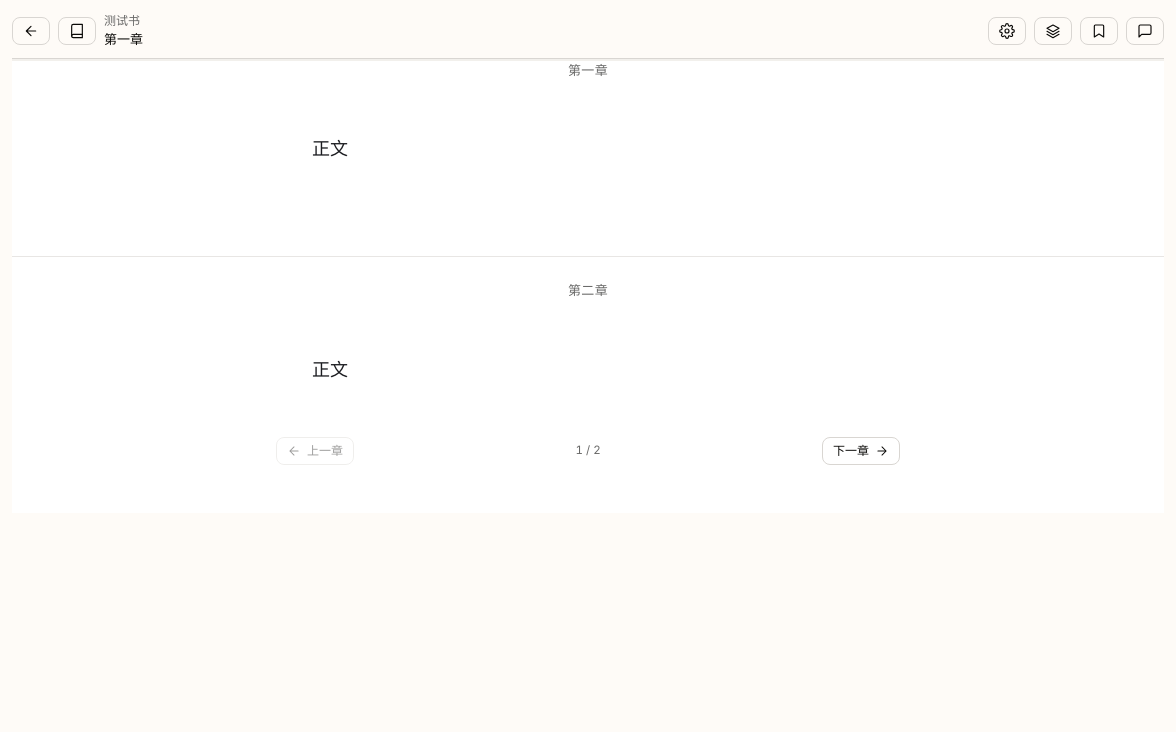
Test case: ReaderView · 设置面板的定位（第 108 期响应式横扫补记） › 面板挂在**工具栏整行**上，而不是那颗按钮的外层 div
The width and height of the screenshot is (1176, 732).
Click the button titled "阅读设置": [1007, 31] box [988,17,1026,45]
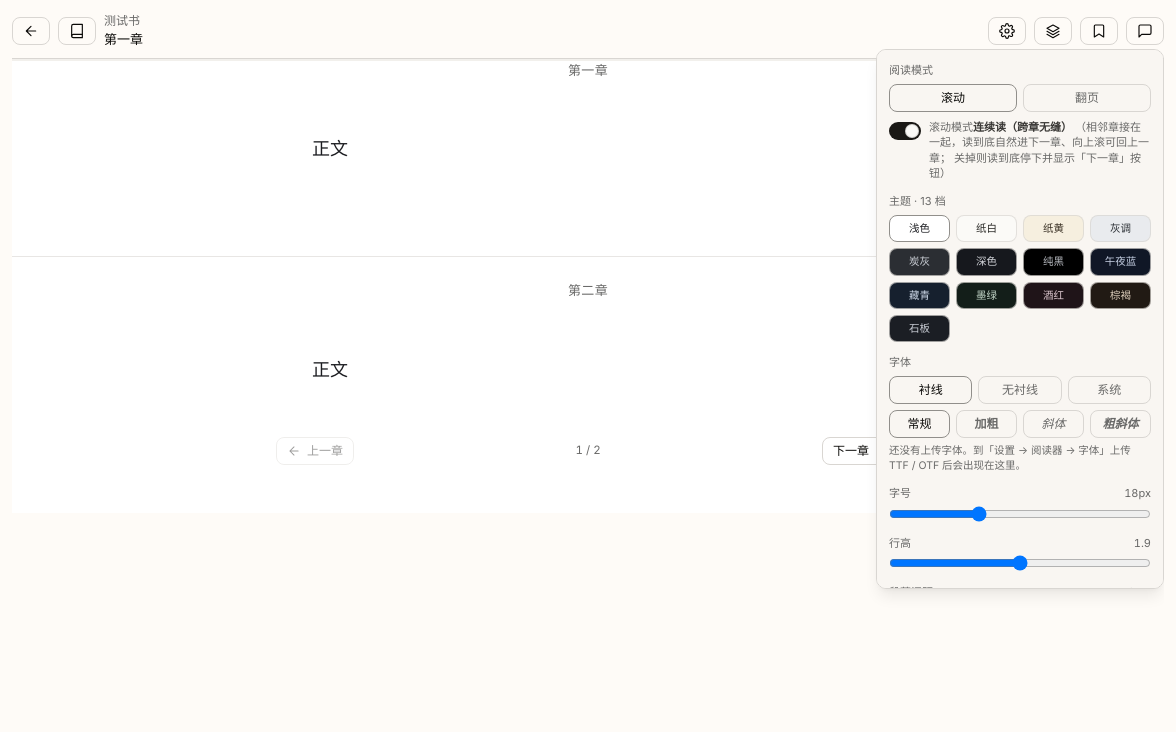
Check: the element with class "z-30" is shown, box [876,49,1164,513]
